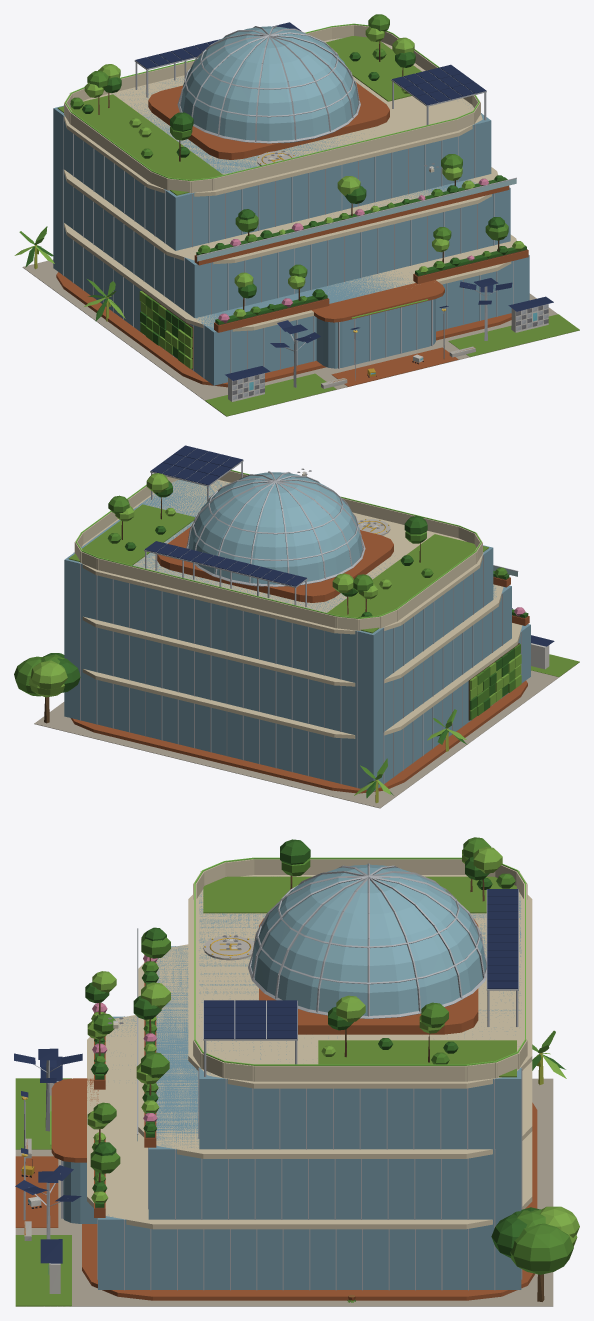
The model's file is shop_5.glb.
The picture shows the model from 3 angles, top to bottom: view 1: azimuth 30°, elevation 25°; view 2: azimuth 150°, elevation 25°; view 3: azimuth 270°, elevation 25°; orthographic projection. The views are drawn at different scales.
Visible parts, largest first — view 1: body, windows; view 2: body, windows; view 3: body, windows.
Boxes of the visible parts, x1=… form: body: x1=14, y1=14, x2=579, y2=416; windows: x1=65, y1=23, x2=537, y2=390; body: x1=14, y1=445, x2=579, y2=808; windows: x1=75, y1=470, x2=481, y2=618; body: x1=14, y1=837, x2=579, y2=1306; windows: x1=21, y1=857, x2=526, y2=1274.
Size of the model in its own units: 35.11 by 21.07 by 33.57.
